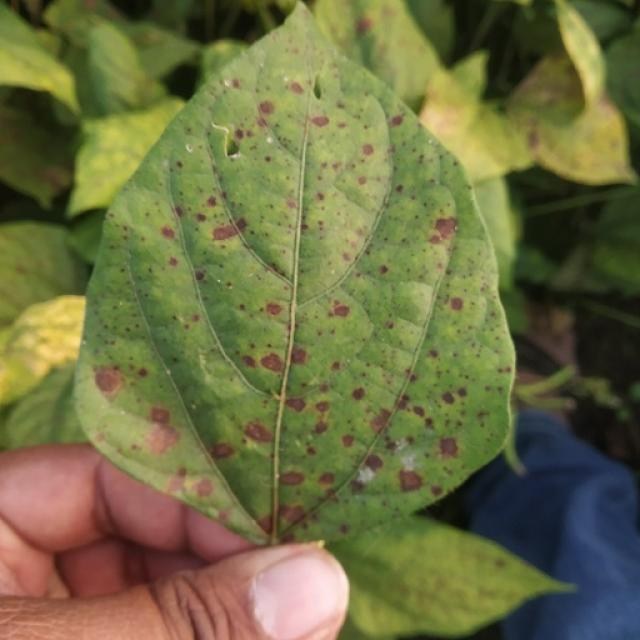Anthracnose: (251, 378, 350, 465), (241, 337, 323, 398), (142, 421, 180, 454), (209, 223, 257, 244), (94, 367, 122, 395), (244, 421, 272, 443), (432, 216, 456, 240), (398, 469, 423, 492), (212, 223, 239, 242), (369, 411, 390, 434), (259, 353, 283, 372), (439, 436, 458, 457), (194, 478, 215, 497), (211, 443, 235, 459), (150, 406, 171, 424), (363, 453, 384, 471), (279, 471, 305, 485), (285, 396, 306, 413), (256, 514, 275, 532), (291, 348, 308, 365), (332, 303, 350, 318), (258, 100, 274, 116), (268, 263, 285, 278), (265, 302, 283, 316), (358, 17, 373, 33), (311, 115, 329, 128), (318, 472, 336, 485), (288, 81, 304, 94), (161, 225, 175, 239), (450, 297, 464, 311), (341, 435, 355, 449), (389, 114, 404, 127), (351, 387, 365, 400), (441, 391, 455, 404), (314, 420, 327, 434), (315, 401, 329, 413), (430, 484, 444, 496), (362, 143, 374, 156), (206, 196, 218, 208), (494, 557, 507, 568), (137, 368, 149, 378), (194, 271, 205, 281), (339, 524, 349, 535), (379, 265, 389, 275), (168, 257, 178, 267), (226, 282, 233, 289)
Blackgram: (75, 8, 514, 540)
